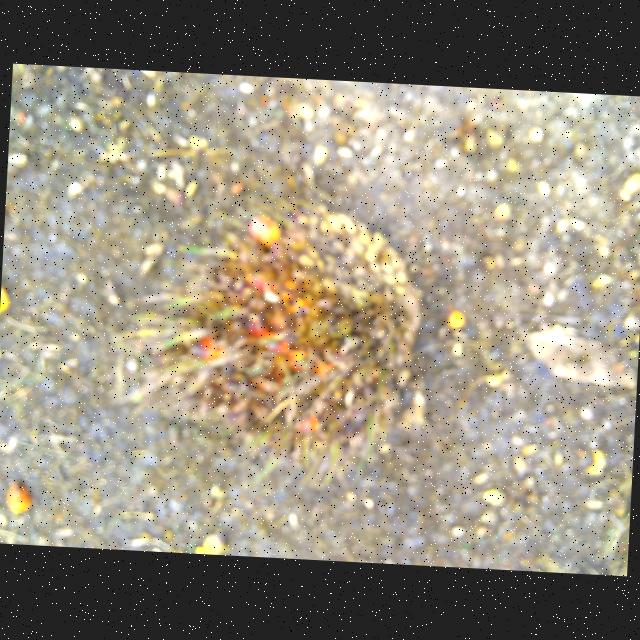Ripe: (160, 198, 417, 467)
